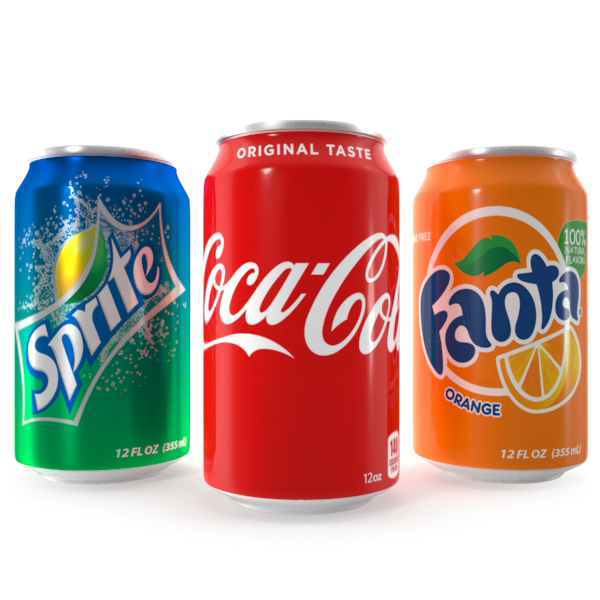Coca-Cola: (205, 144, 392, 482)
Fanta: (413, 141, 600, 479)
Sprite: (12, 148, 198, 486)
